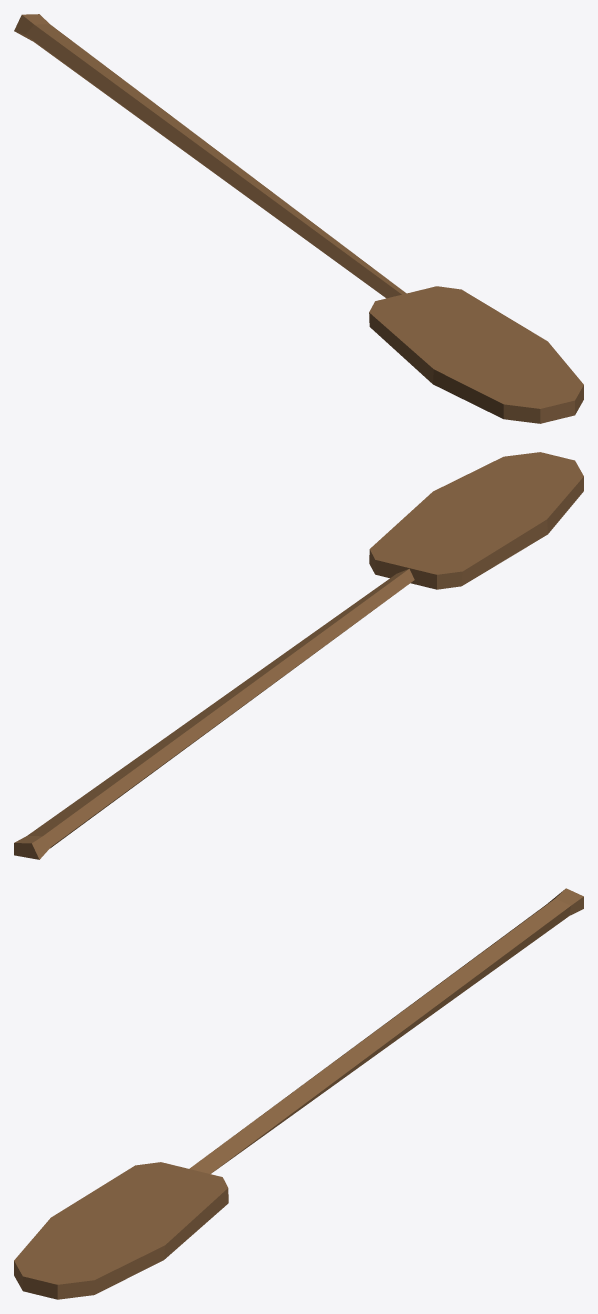
File: Paddle.fbx
The picture shows the model from 3 angles, top to bottom: view 1: azimuth 30°, elevation 25°; view 2: azimuth 150°, elevation 25°; view 3: azimuth 330°, elevation 25°; orthographic projection.
Parts seen in each view (by area): view 1: Paddle; view 2: Paddle; view 3: Paddle.
Part boxes in pixels (x1=…): Paddle: x1=14, y1=14, x2=583, y2=423; Paddle: x1=14, y1=452, x2=583, y2=859; Paddle: x1=14, y1=888, x2=583, y2=1299.
Size of the model in its own units: 0.2957 by 0.0459 by 2.37.
